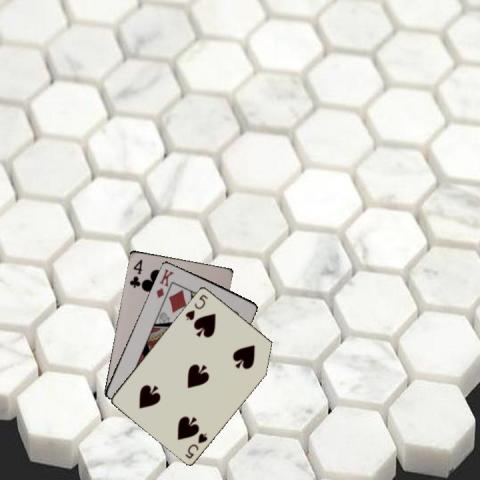4c: (127, 256, 143, 289)
5s: (182, 291, 209, 322), (182, 430, 209, 460)
Kd: (154, 266, 176, 299)
